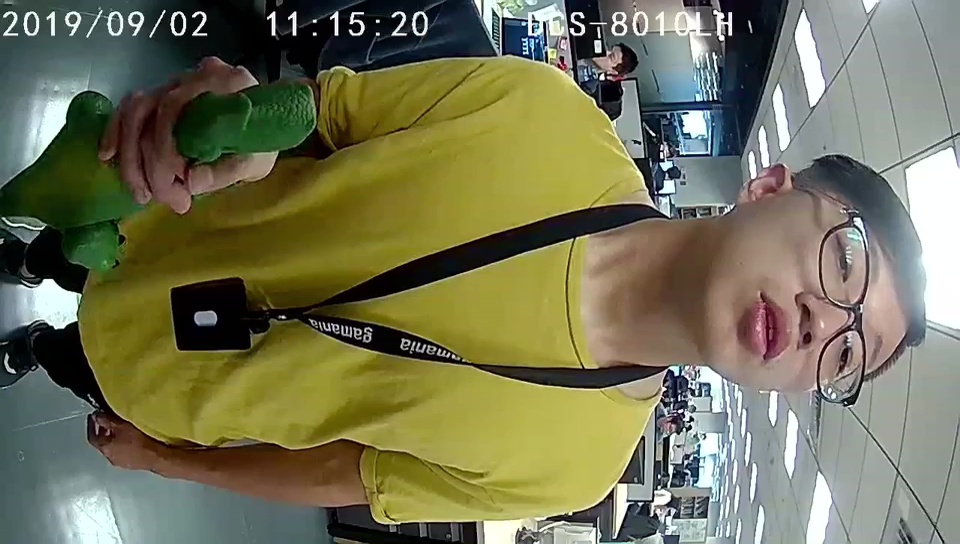rex: (56, 78, 316, 271)
